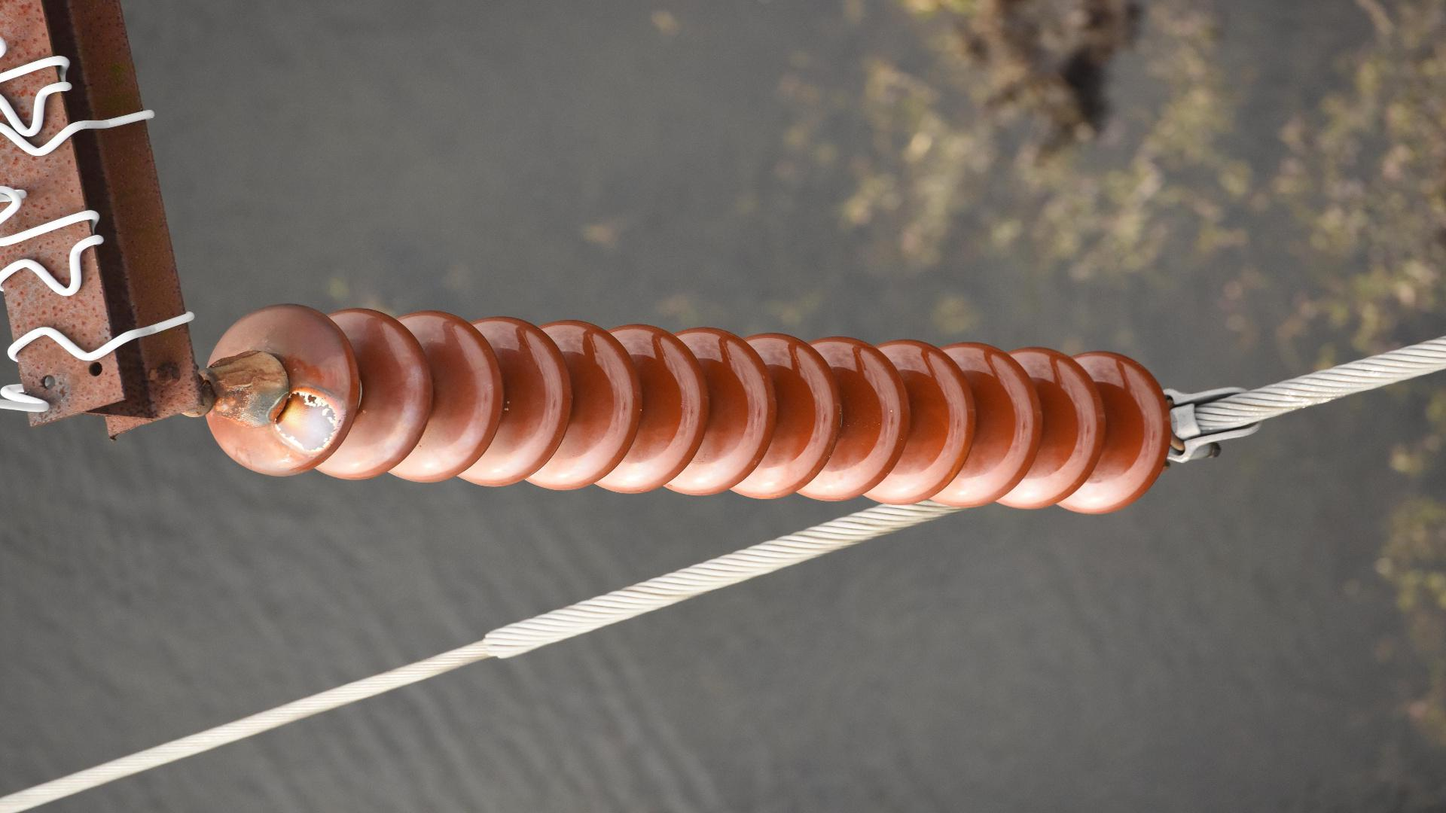insulator: (202, 300, 1175, 522)
insulator_flashover: (270, 385, 346, 456)
